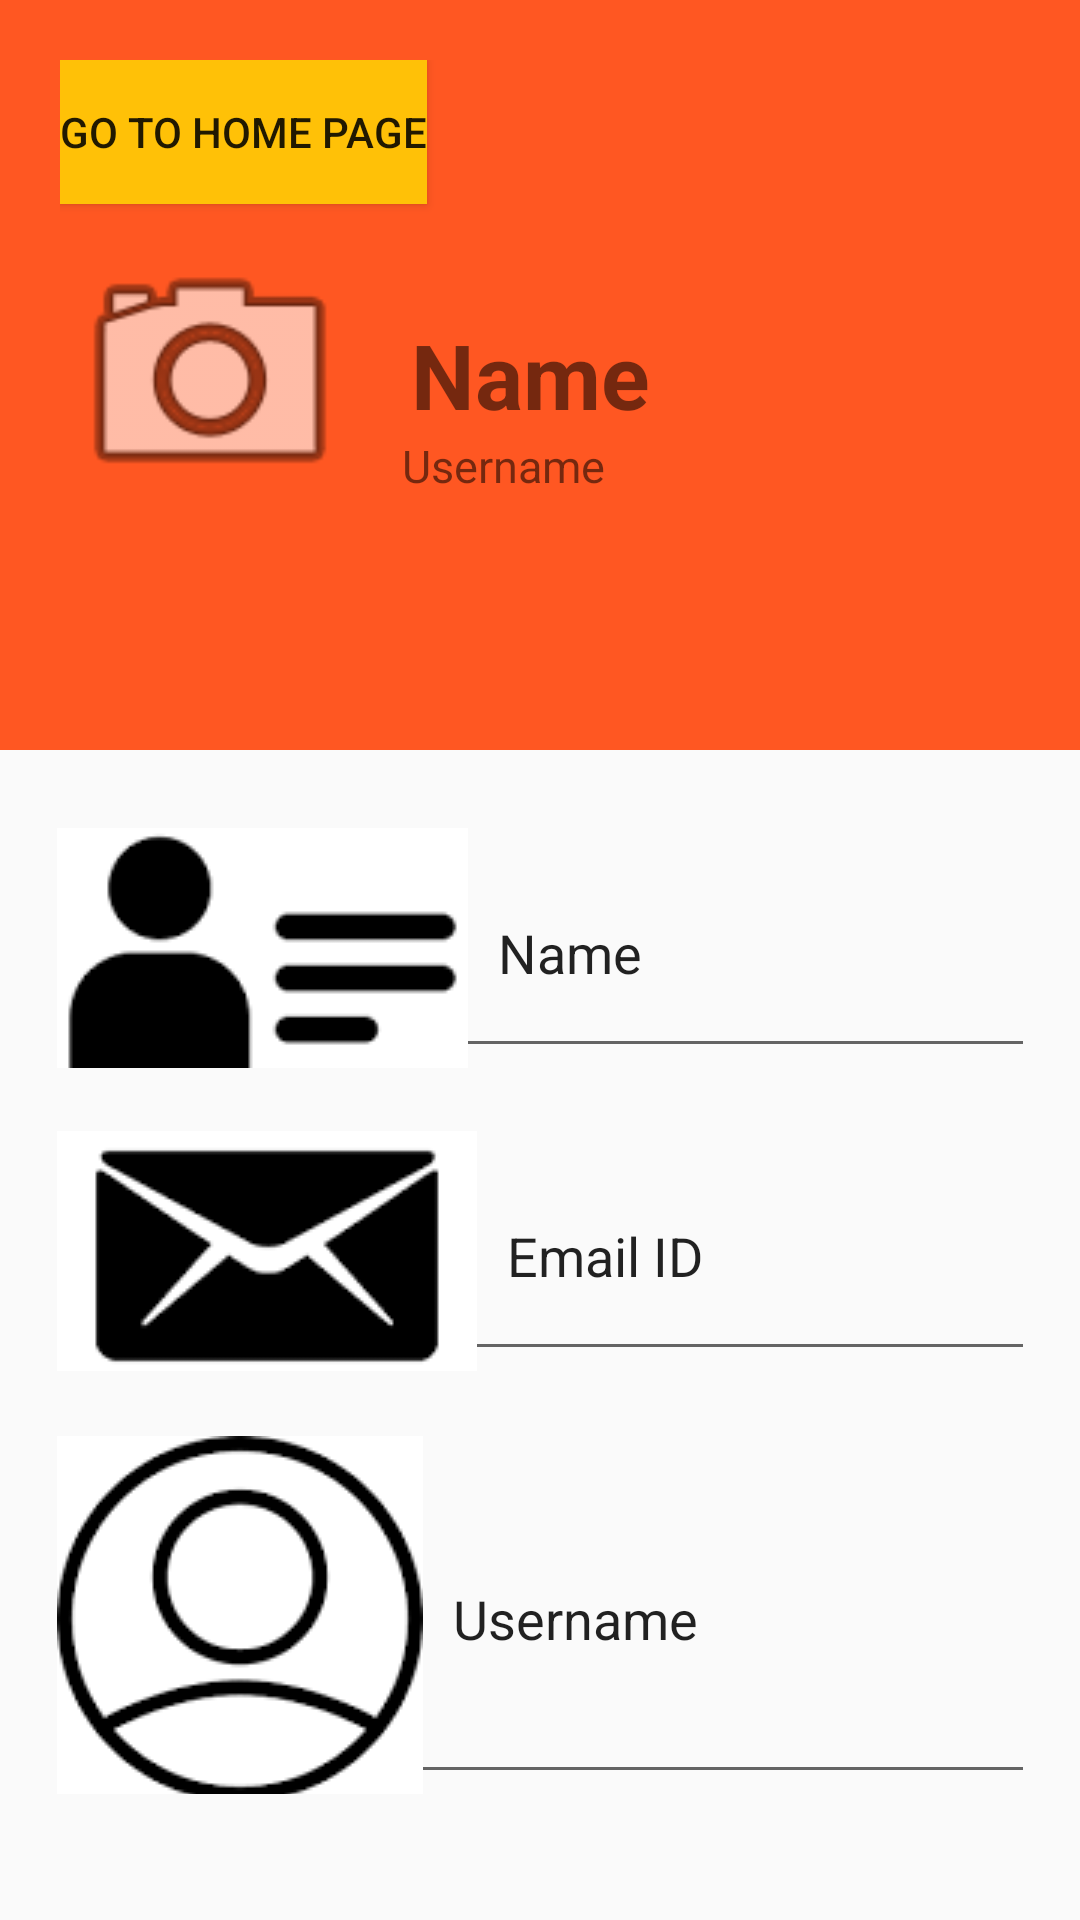

Icons on this 1080px×1920px Android screen, each with its box as (x1, y1, x2, y2):
camera: (94, 278, 326, 463)
